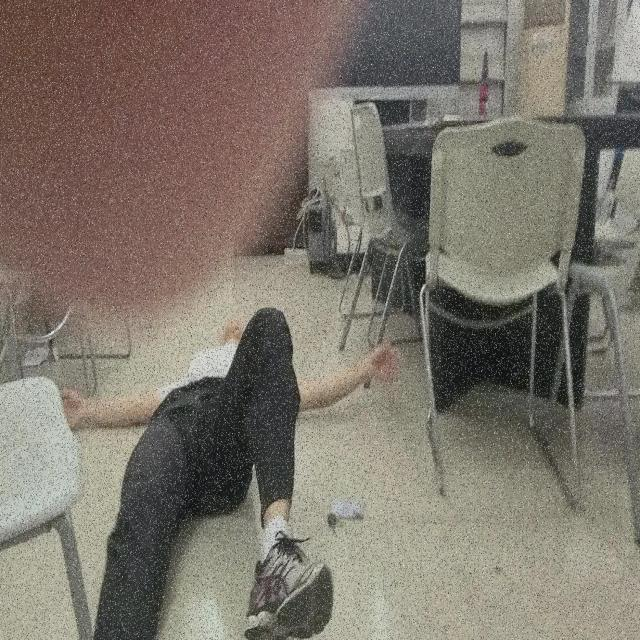fall: (53, 302, 402, 640)
